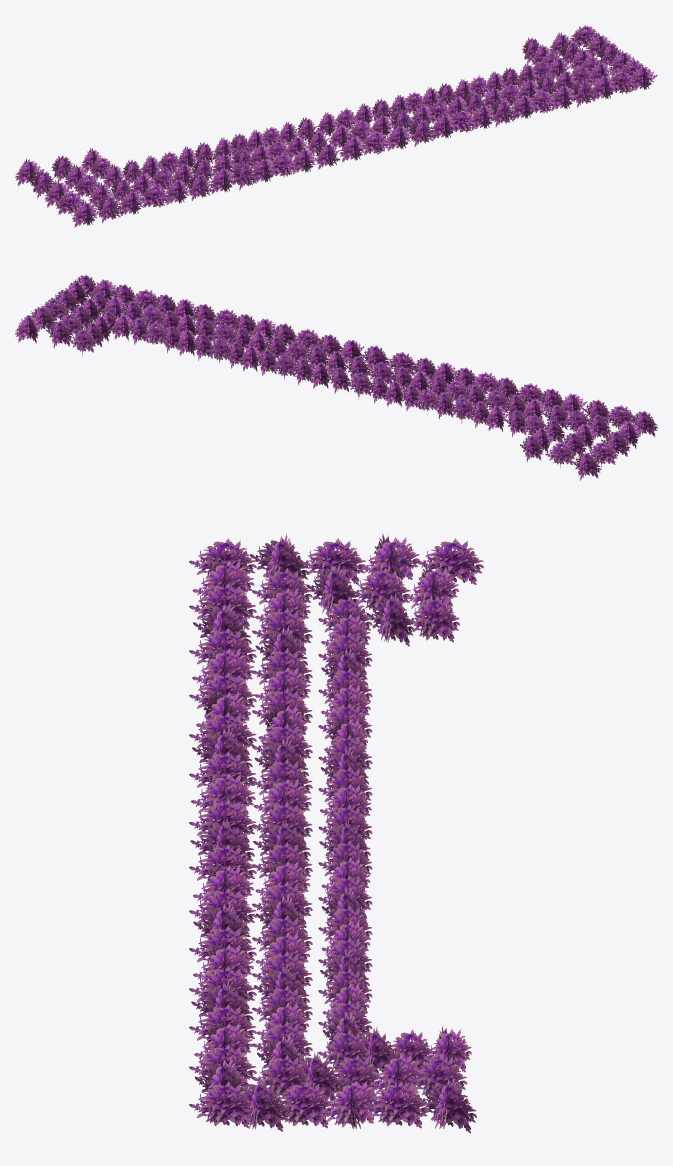
The model's file is Shrubs.obj.
The picture shows the model from 3 angles, top to bottom: view 1: azimuth 30°, elevation 25°; view 2: azimuth 150°, elevation 25°; view 3: azimuth 270°, elevation 25°; orthographic projection. The views are drawn at different scales.
Parts seen in each view (by area): view 1: Shrubs_Plane.012; view 2: Shrubs_Plane.012; view 3: Shrubs_Plane.012.
Part boxes in pixels (x1,y1,x2,y2): Shrubs_Plane.012: [15, 25, 657, 227]; Shrubs_Plane.012: [15, 275, 657, 480]; Shrubs_Plane.012: [189, 533, 483, 1133].
Bounding box in the file's own units: 39.4 × 2.12 × 8.59.
1 material, 1 textured.
